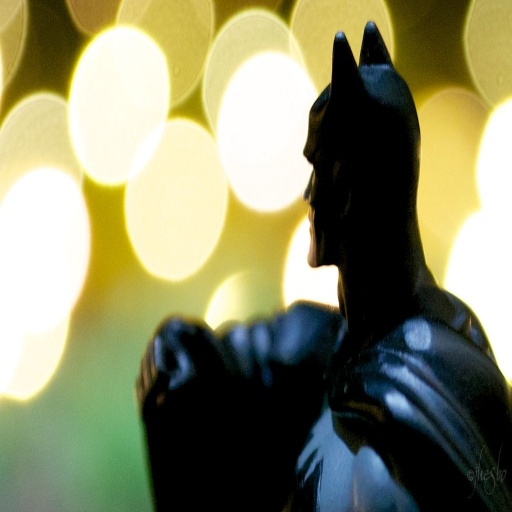hand: (133, 320, 224, 431)
